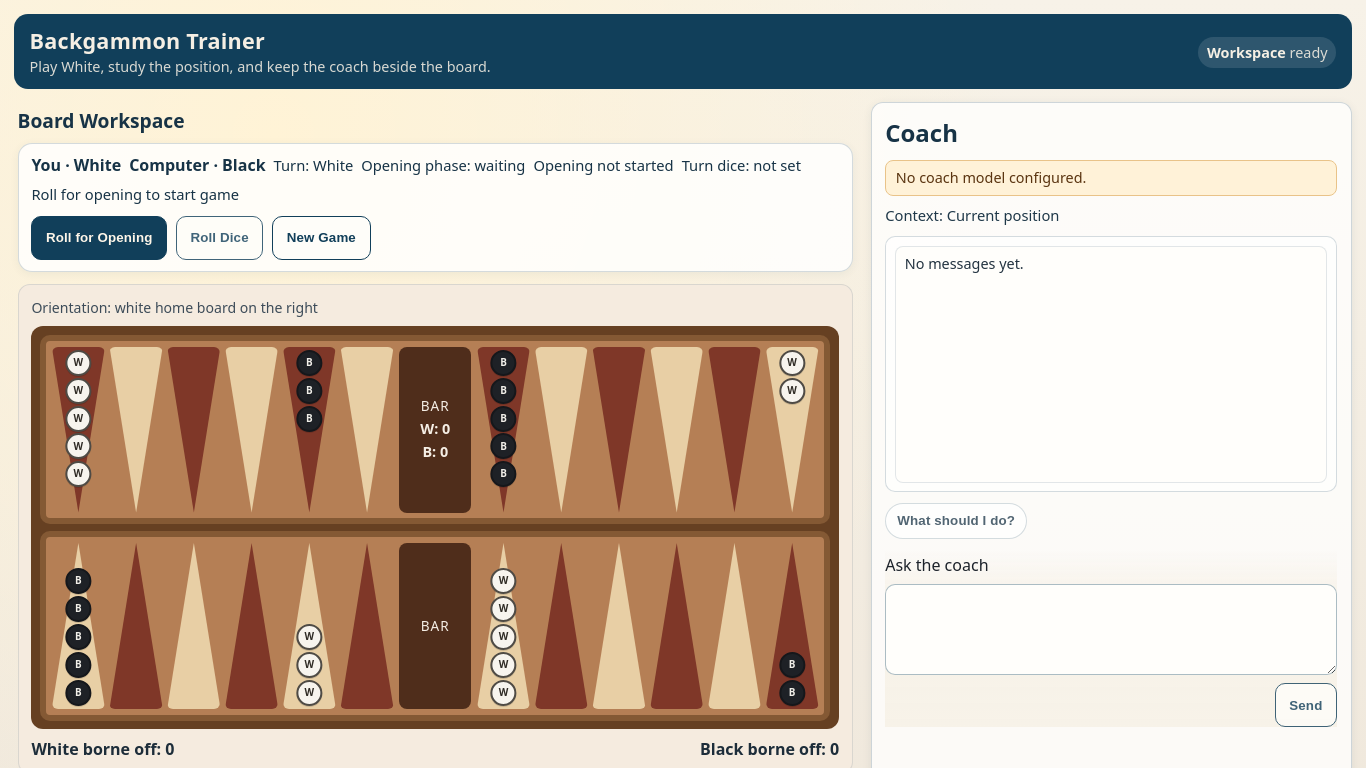
Test: App opening roll lifecycle › handles opening ties by requiring explicit reroll
Click the button "Roll for Opening": (99, 238) [31,216,167,260]
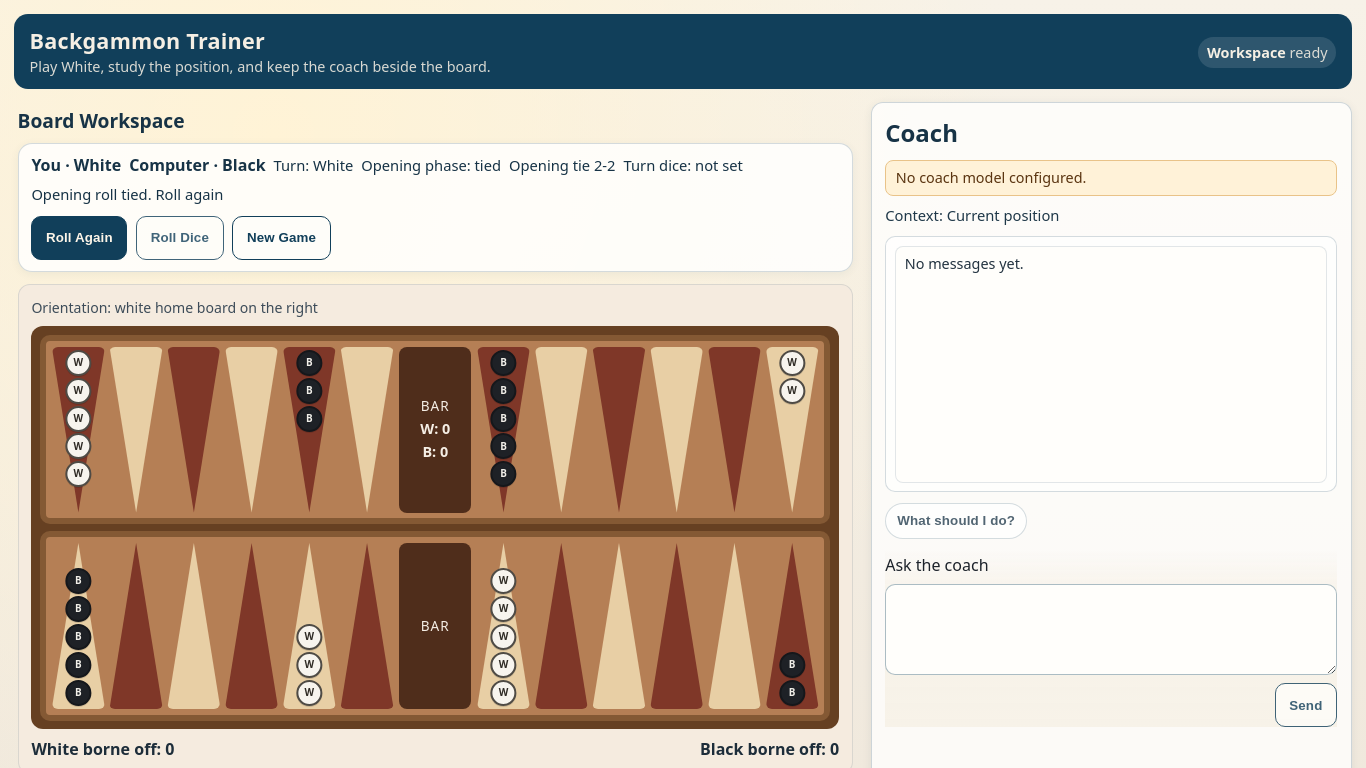
Expected: the text with test id "turn-dice-value" reads "Turn dice: not set", [624,155,743,175]
Expected: the text with test id "opening-phase" reads "Opening phase: tied", [361,156,501,176]
Expected: the button "Roll Again" is shown
Click the button "Roll Again": (79, 238) [31,216,127,260]
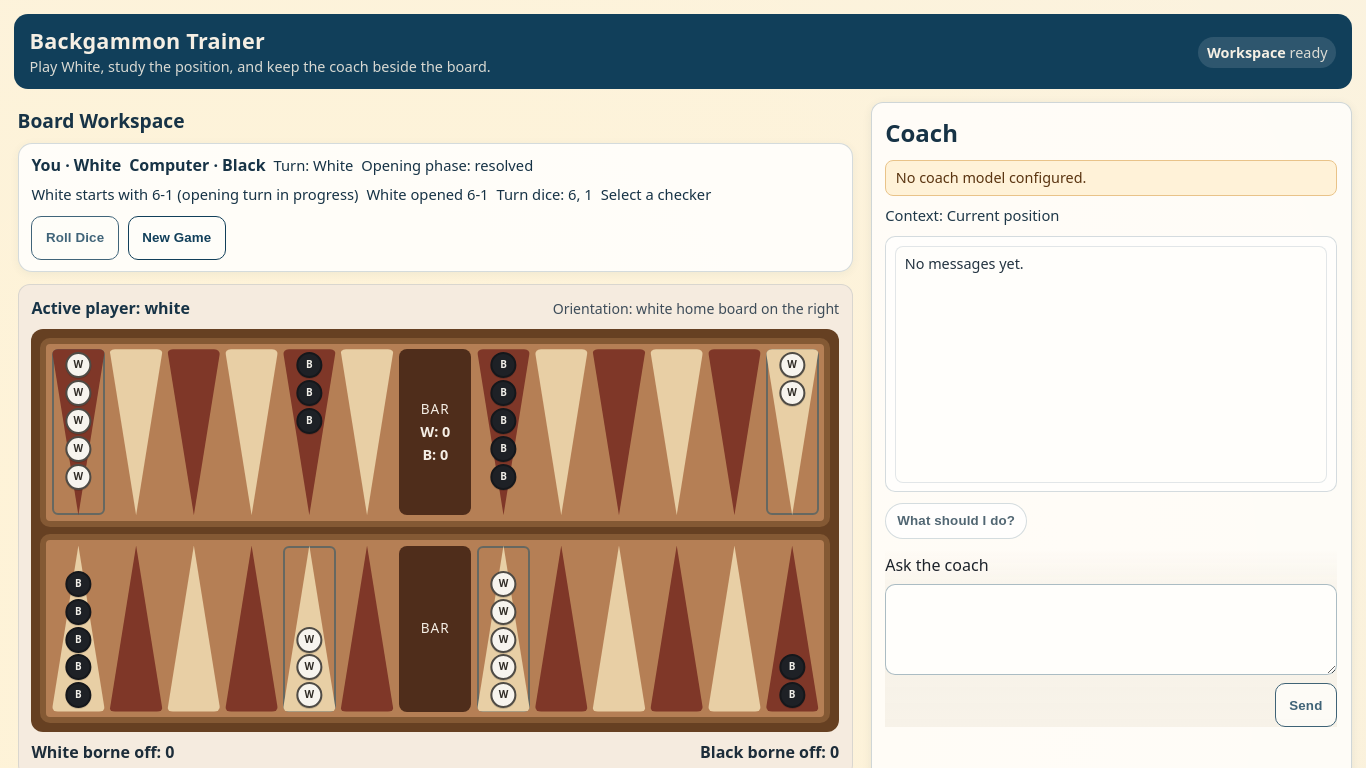
Expected: the text with test id "opening-phase" reads "Opening phase: resolved", [361,156,533,176]
Expected: the text with test id "opening-resolution" shows "White starts with 6-1", [31,185,358,204]
